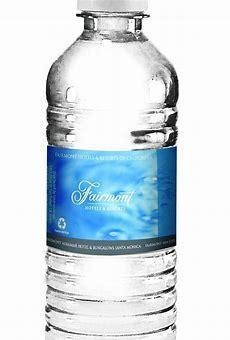bottle: (42, 1, 177, 338)
